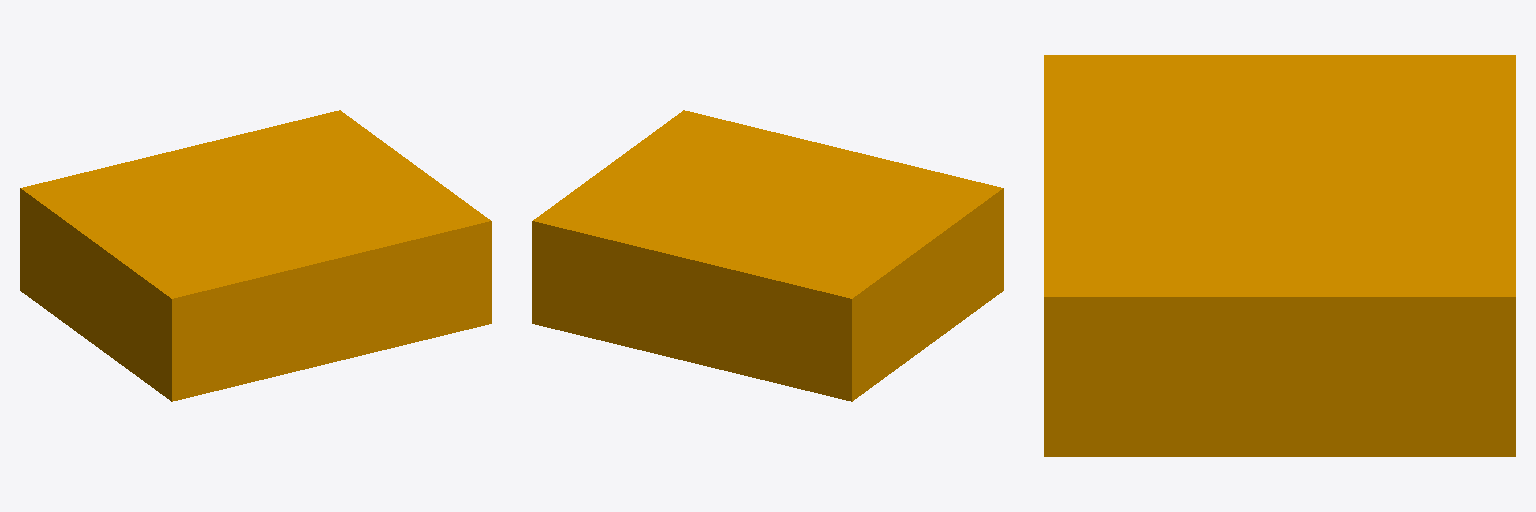
The robot description file, URDF, robot "2x2":
<?xml version='1.0' encoding='UTF-8'?>
<robot name="2x2">
  <link name="base_link">
    <inertial>
      <origin xyz="0.0 0.0 0.0" rpy="0.0 0.0 0.0"/>
      <mass value="0.01"/>
      <inertia ixx="0.1" ixy="0.0" ixz="0.0" iyy="0.1" iyz="0.0" izz="0.1"/>
    </inertial>
    <visual>
      <geometry>
        <box size="0.039 0.032 0.012"/>
      </geometry>
      <material name=""/>
      <origin xyz="0.0 0.0 0.0" rpy="0.0 0.0 0.0"/>
    </visual>
    <collision>
      <geometry>
        <box size="0.039 0.032 0.012"/>
      </geometry>
      <origin xyz="0.0 0.0 0.0" rpy="0.0 0.0 0.0"/>
    </collision>
  </link>
  <material name="">
    <color rgba="0.53544072 0.02314631 0.44596402 1.        "/>
  </material>
  <contact>
    <lateral_friction value="1.0"/>
    <rolling_friction value="0.0"/>
    <contact_cfm value="0.0"/>
    <contact_erp value="1.0"/>
  </contact>
</robot>

--- What the picture shows (computed from the rendered views, not written in the file) ---
Views: 3 orthographic renders of the robot side by side, from view 1: azimuth 30°, elevation 25°; view 2: azimuth 150°, elevation 25°; view 3: azimuth 270°, elevation 25°.
Model 2x2 with 1 links and 0 joints (none), rooted at base_link, posed all joints at 0.
Links seen in each view (by area): view 1: base_link; view 2: base_link; view 3: base_link.
Boxes of the visible links, x1,y1,x2,y2 form: base_link: (20,110,491,401); base_link: (532,110,1003,401); base_link: (1044,55,1515,456).
Size in the robot's own frame: 0.039 by 0.032 by 0.012 metres.
Geometry: primitives only (box / cylinder / sphere), no mesh files.